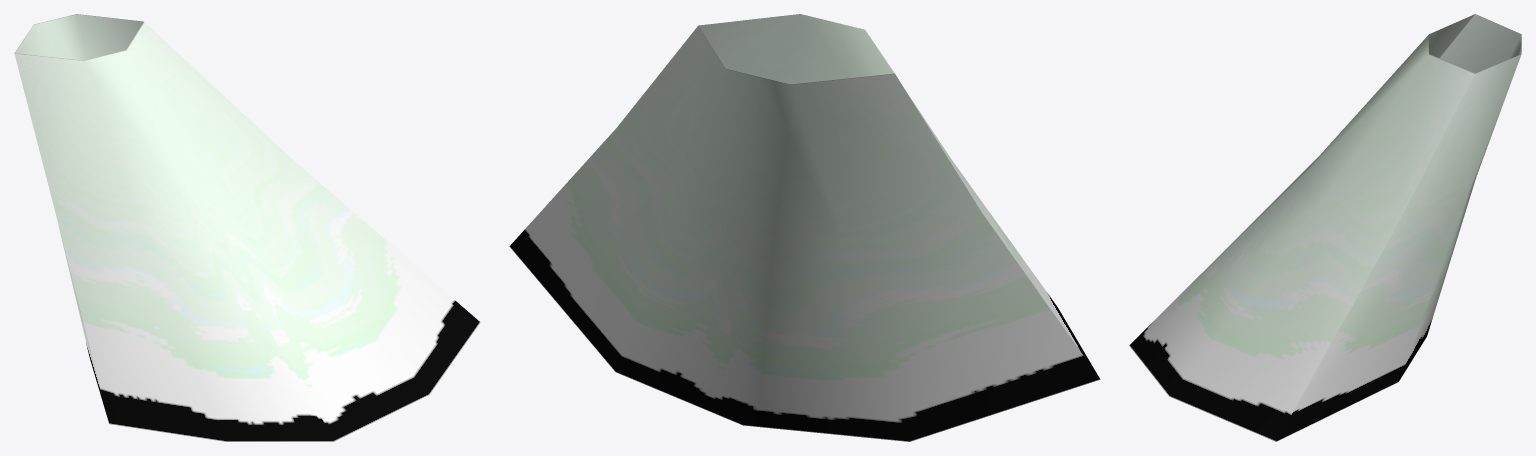
The model's file is rays_vertical_opening_01.obj.
3 renders of one model, left to right at view 1: azimuth 30°, elevation 25°; view 2: azimuth 150°, elevation 25°; view 3: azimuth 270°, elevation 25°, orthographic. The views are drawn at different scales.
Parts seen in each view (by area): view 1: obj1; view 2: obj1; view 3: obj1.
Part boxes in pixels (x1=…): obj1: x1=14, y1=14, x2=480, y2=441; obj1: x1=509, y1=14, x2=1100, y2=441; obj1: x1=1129, y1=14, x2=1521, y2=441.
Size of the model in its own units: 4562 by 3284 by 4333.
1 material, 1 textured.
